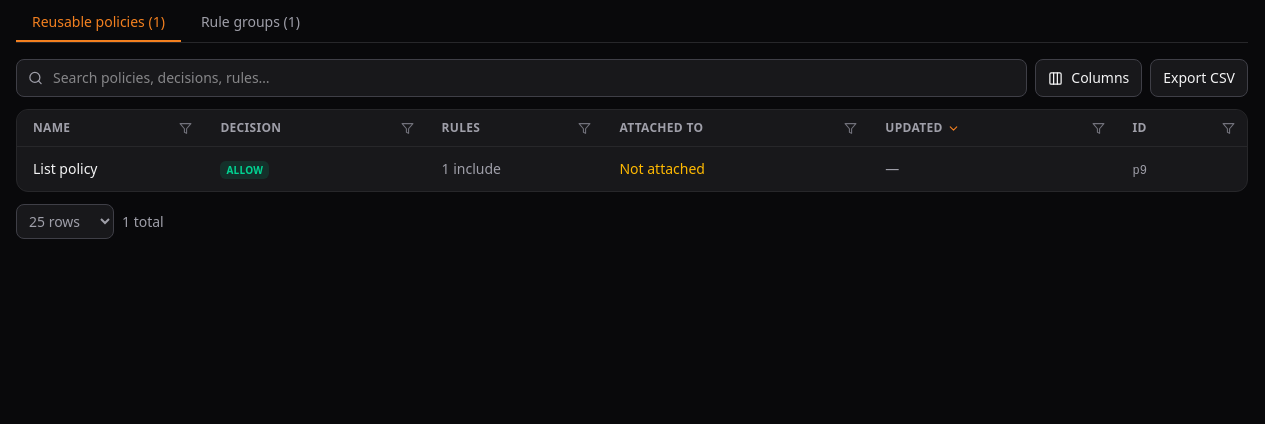
Scenario: GroupsPage tabs › shows a referenced list's name, size and entries
This screenshot has width=1265, height=424.
Click the text "List policy" at (65, 168), box [33,159,98,178]
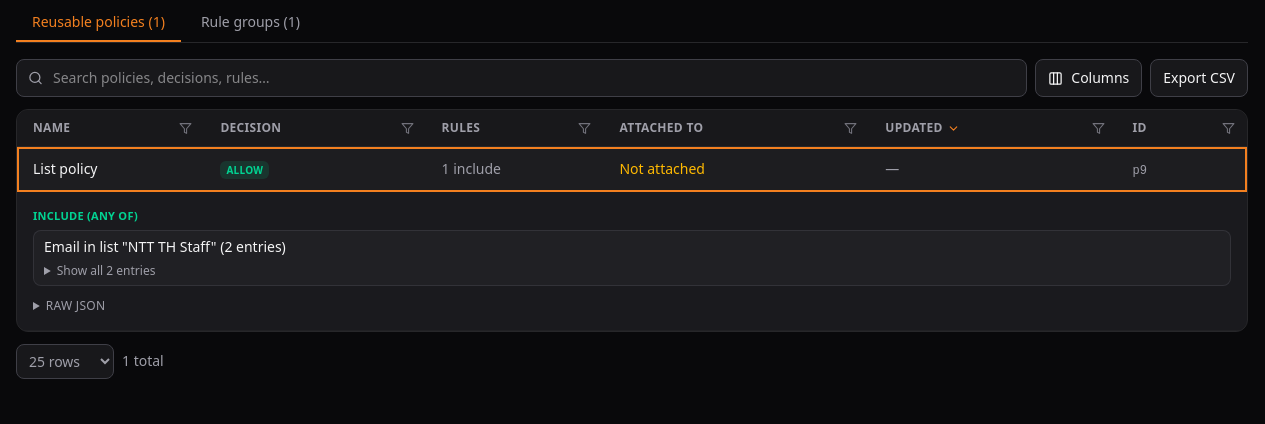
Expected: the list item "Email in list \"NTT TH Staff\" (2 entries) Show all 2 entries" is shown, [33,230,1231,286]
Click the heading "Show all 2 entries" at (106, 270), box [57,262,155,279]
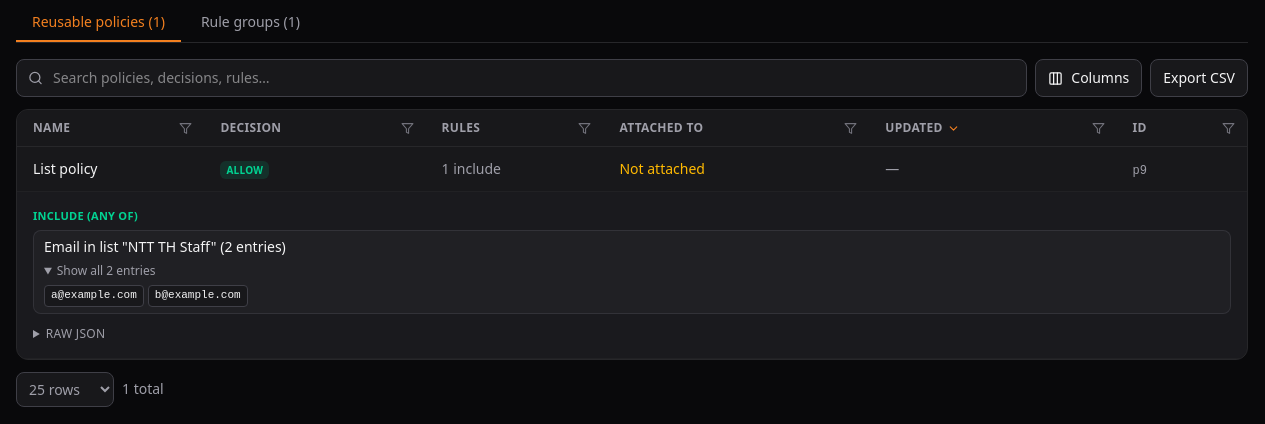
Expected: the list item "a@example.com" is shown, [44,285,144,307]
